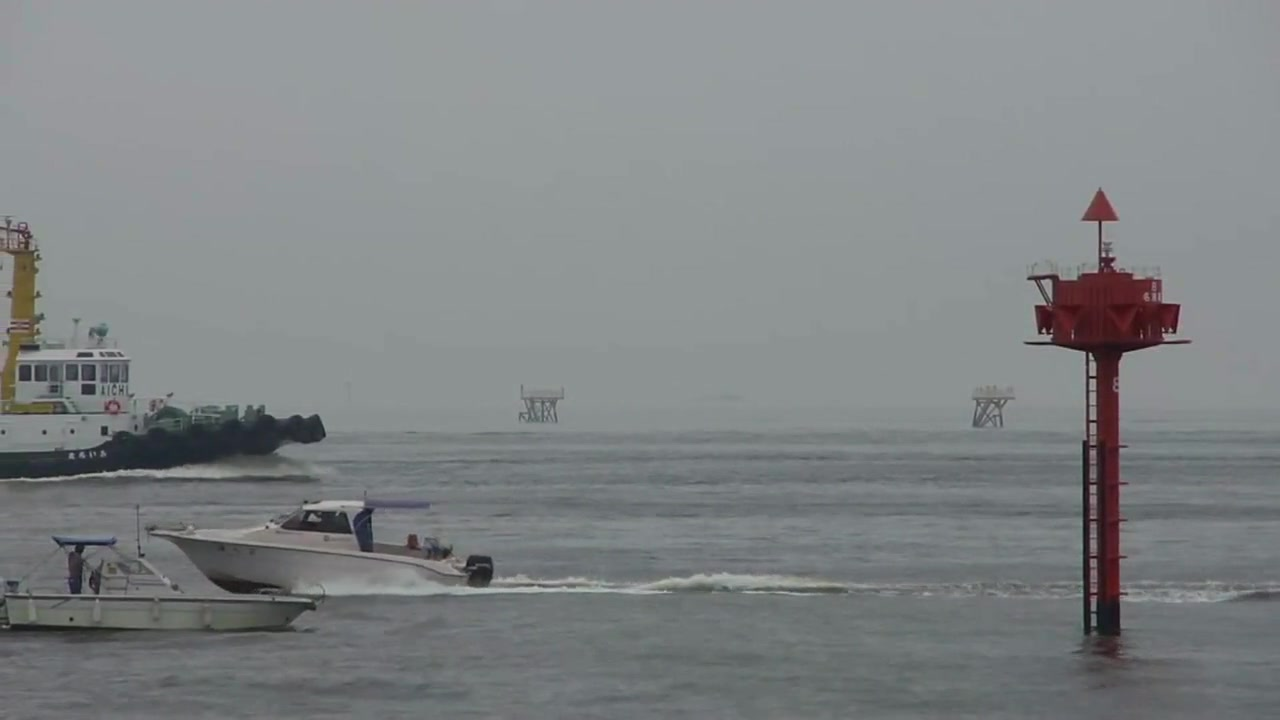boat: (3, 532, 327, 638)
